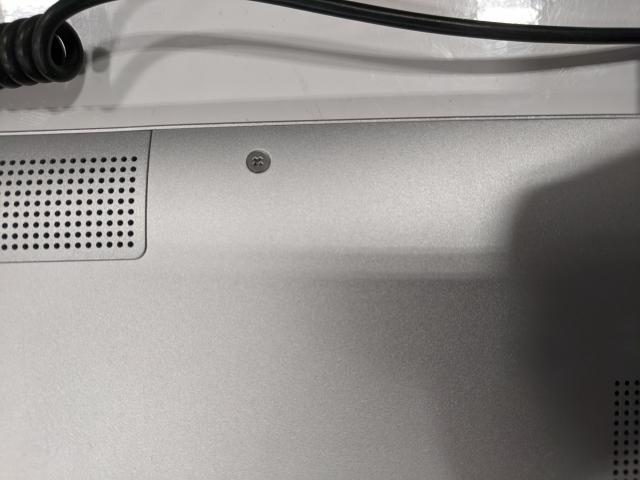CRS: (244, 150, 274, 176)
